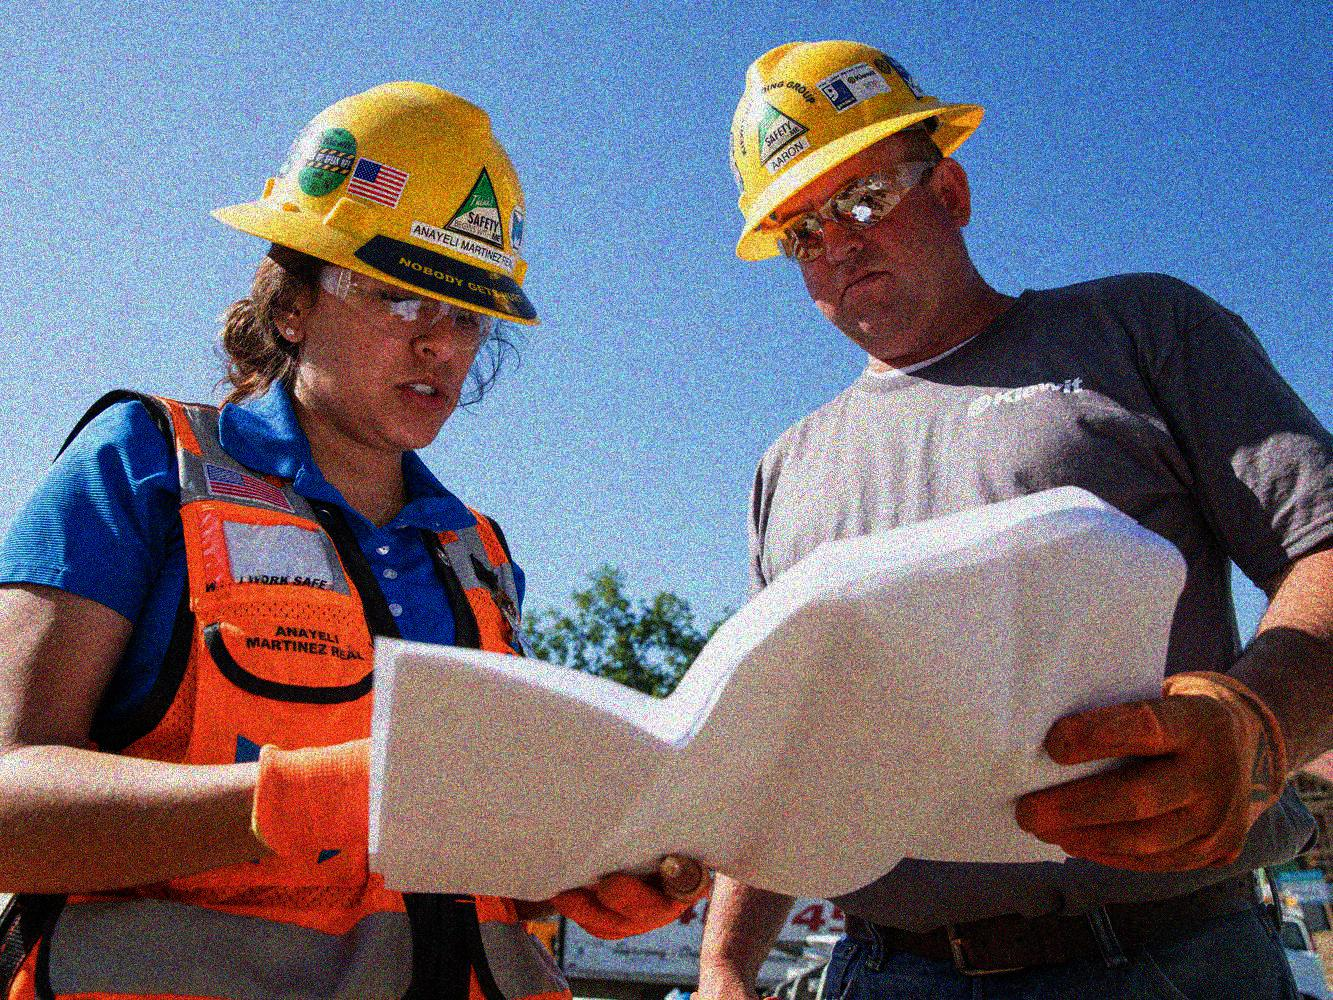helmet: (209, 68, 549, 447), (726, 40, 990, 361)
